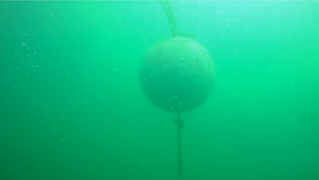buoy: (138, 36, 216, 113)
